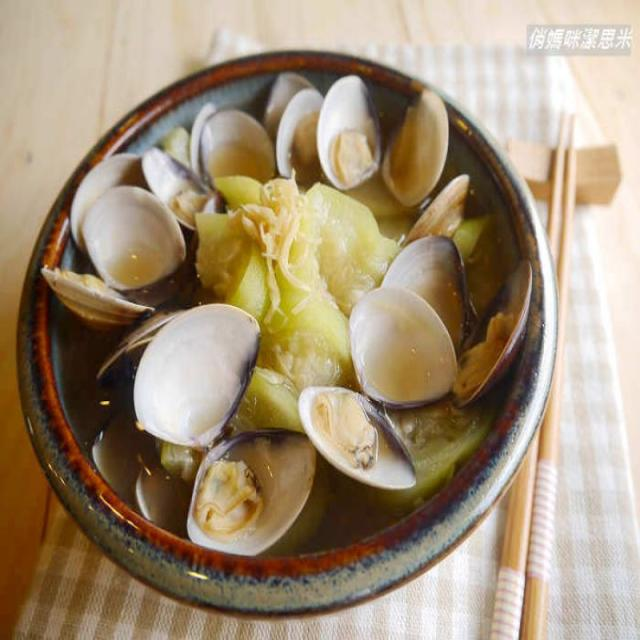Wet: (36, 48, 473, 518)
